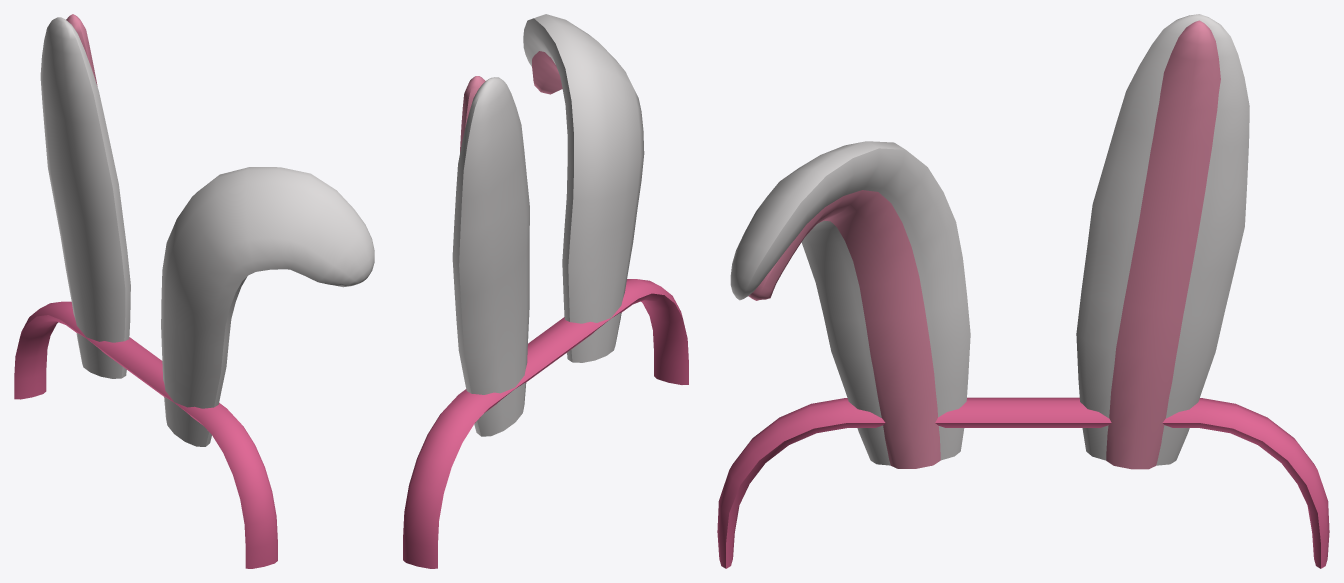
Rendered from hat_bunny_ears.glb.
3 renders of one model, left to right at view 1: azimuth 30°, elevation 25°; view 2: azimuth 150°, elevation 25°; view 3: azimuth 270°, elevation 25°, orthographic. The views are drawn at different scales.
Parts seen in each view (by area): view 1: hat_bunny_ears; view 2: hat_bunny_ears; view 3: hat_bunny_ears.
Boxes of the visible parts, x1,y1,x2,y2 form: hat_bunny_ears: (14,14,374,568); hat_bunny_ears: (403,14,688,568); hat_bunny_ears: (717,14,1329,568).
Bounding box in the file's own units: 0.1983 × 0.5207 × 0.5394.
